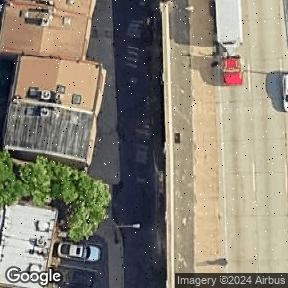vegetation: (0, 143, 118, 247)
